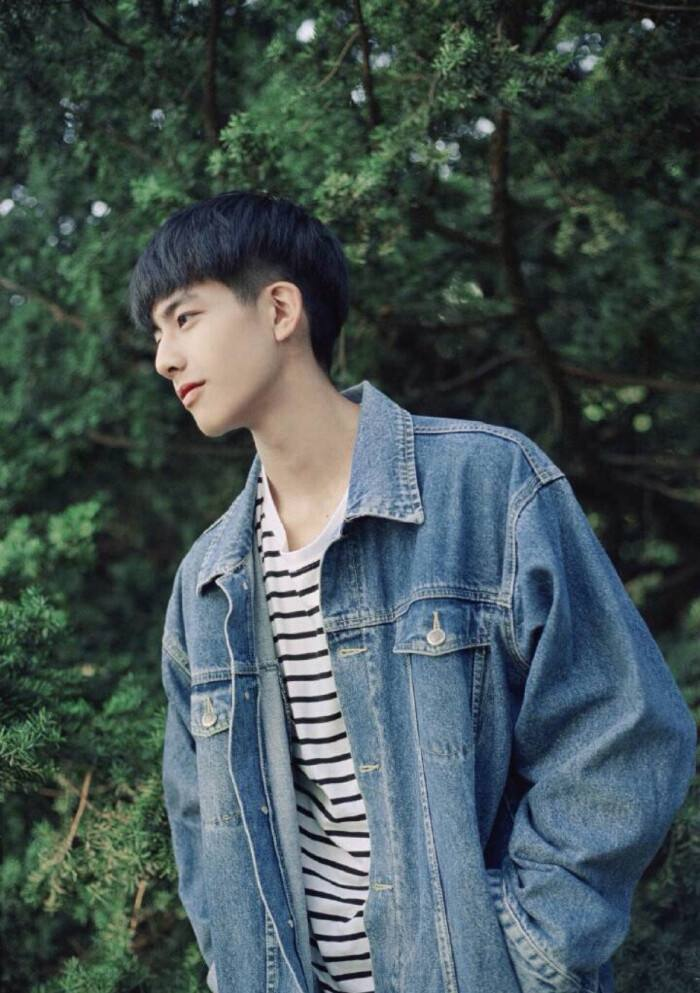person: (86, 185, 565, 876)
